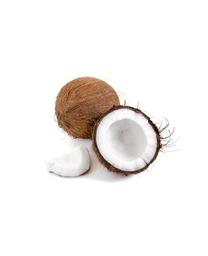coconut: (92, 105, 161, 175), (54, 76, 122, 140)
